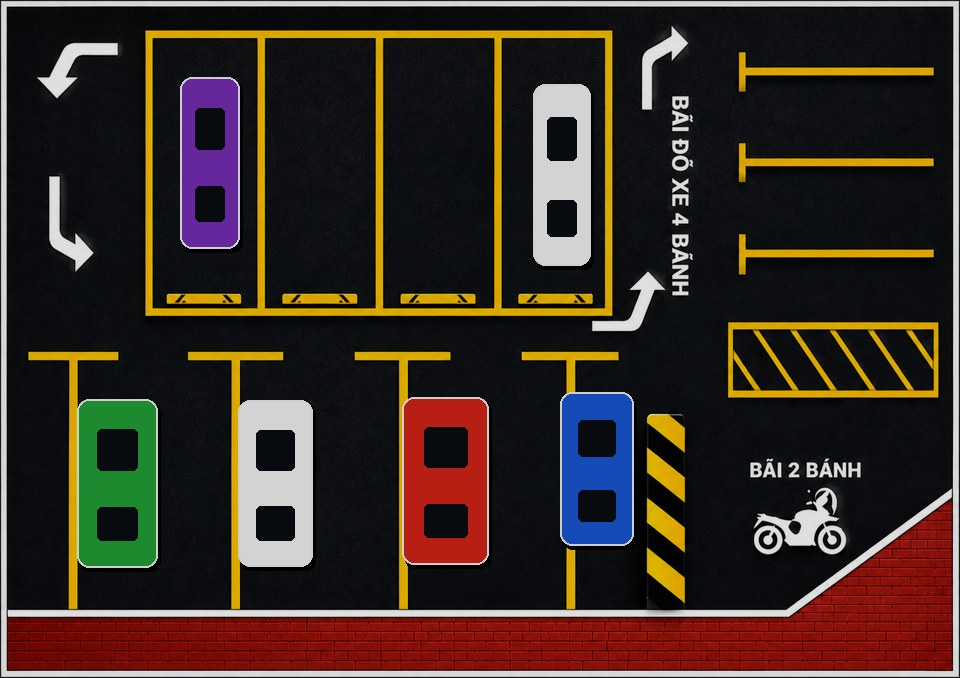empty: (267, 35, 386, 309), (386, 35, 505, 309)
occupied: (35, 351, 199, 598), (360, 351, 518, 598), (201, 351, 357, 598), (524, 351, 672, 598), (148, 35, 267, 309), (505, 35, 624, 309)
